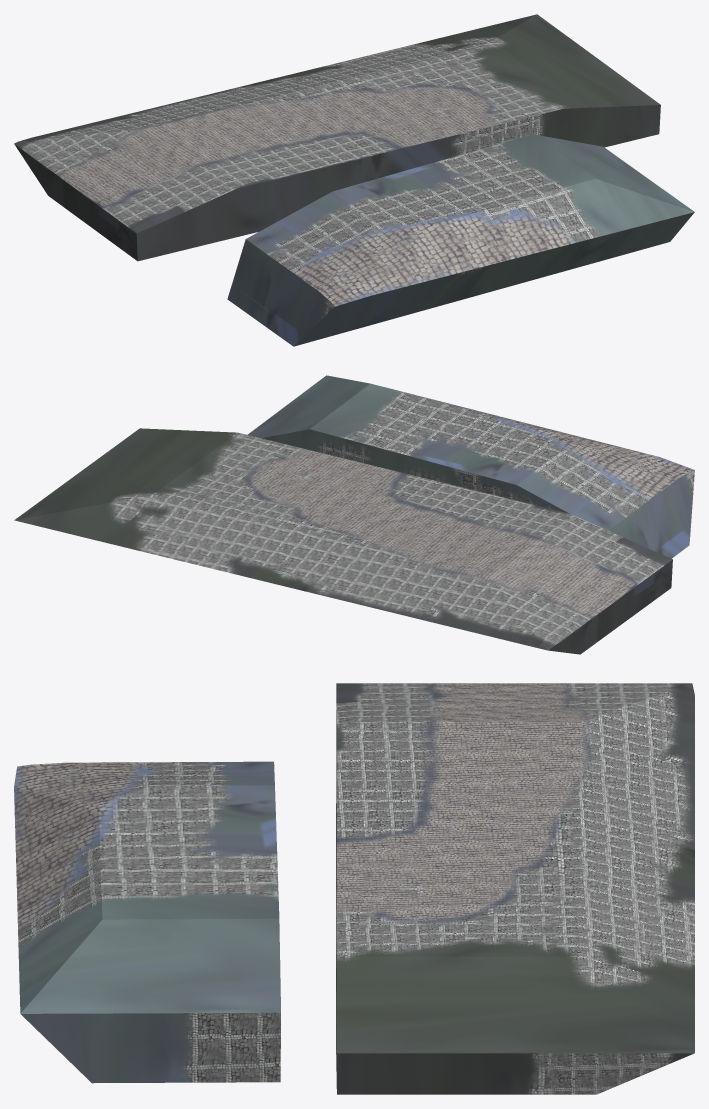
File: ExportSueloPoligono.fbx
3 renders of one model, top to bottom at view 1: azimuth 30°, elevation 25°; view 2: azimuth 150°, elevation 25°; view 3: azimuth 270°, elevation 25°, orthographic. The views are drawn at different scales.
Parts seen in each view (by area): view 1: Cube_002, Cube_003; view 2: Cube_002, Cube_003; view 3: Cube_002, Cube_003.
Boxes of the visible parts, x1,y1,x2,y2 form: Cube_002: (14,14,660,261); Cube_003: (227,134,694,346); Cube_002: (14,428,672,654); Cube_003: (247,375,694,558); Cube_002: (336,683,694,1094); Cube_003: (14,761,280,1083).
Bounding box in the file's own units: 37467 × 6045 × 29049.
